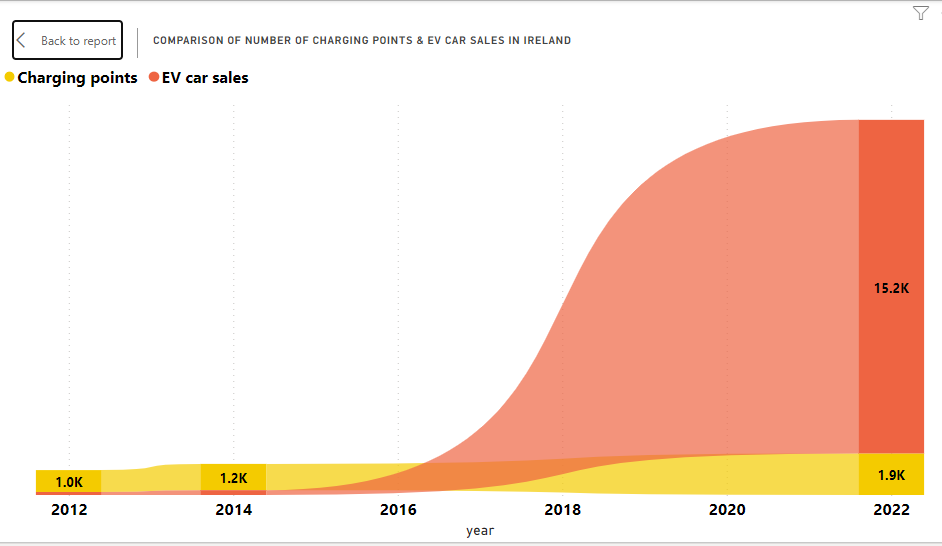

The page's visual inventory and layout, read from the dashboard file:
{"tool":"powerbi","page":{"name":"Comparison of number of CP and EV car sales","canvas":[1280,720],"ordinal":3},"visuals":[{"type":"ribbonChart","title":"Comparison of  number of charging points & EV car sales in Ireland ","fields":{"Category":["EV cars sales and charging poin.year"],"Y":["Max(EV cars sales and charging poin.charging points )","Max(EV cars sales and charging poin.Sales)"]},"box":[0,0,1279.4,720],"z":0}]}

Visuals, with their boxes on the page's 1280x720 design canvas (x1, y1, x2, y2). These are canvas units, not pixel positions in the 942x546 screenshot, which may show the page scaled, cropped or inside an application window:
"Comparison of  number of charging points & EV car sales in Ireland " ribbonChart: x1=0, y1=0, x2=1279, y2=720
